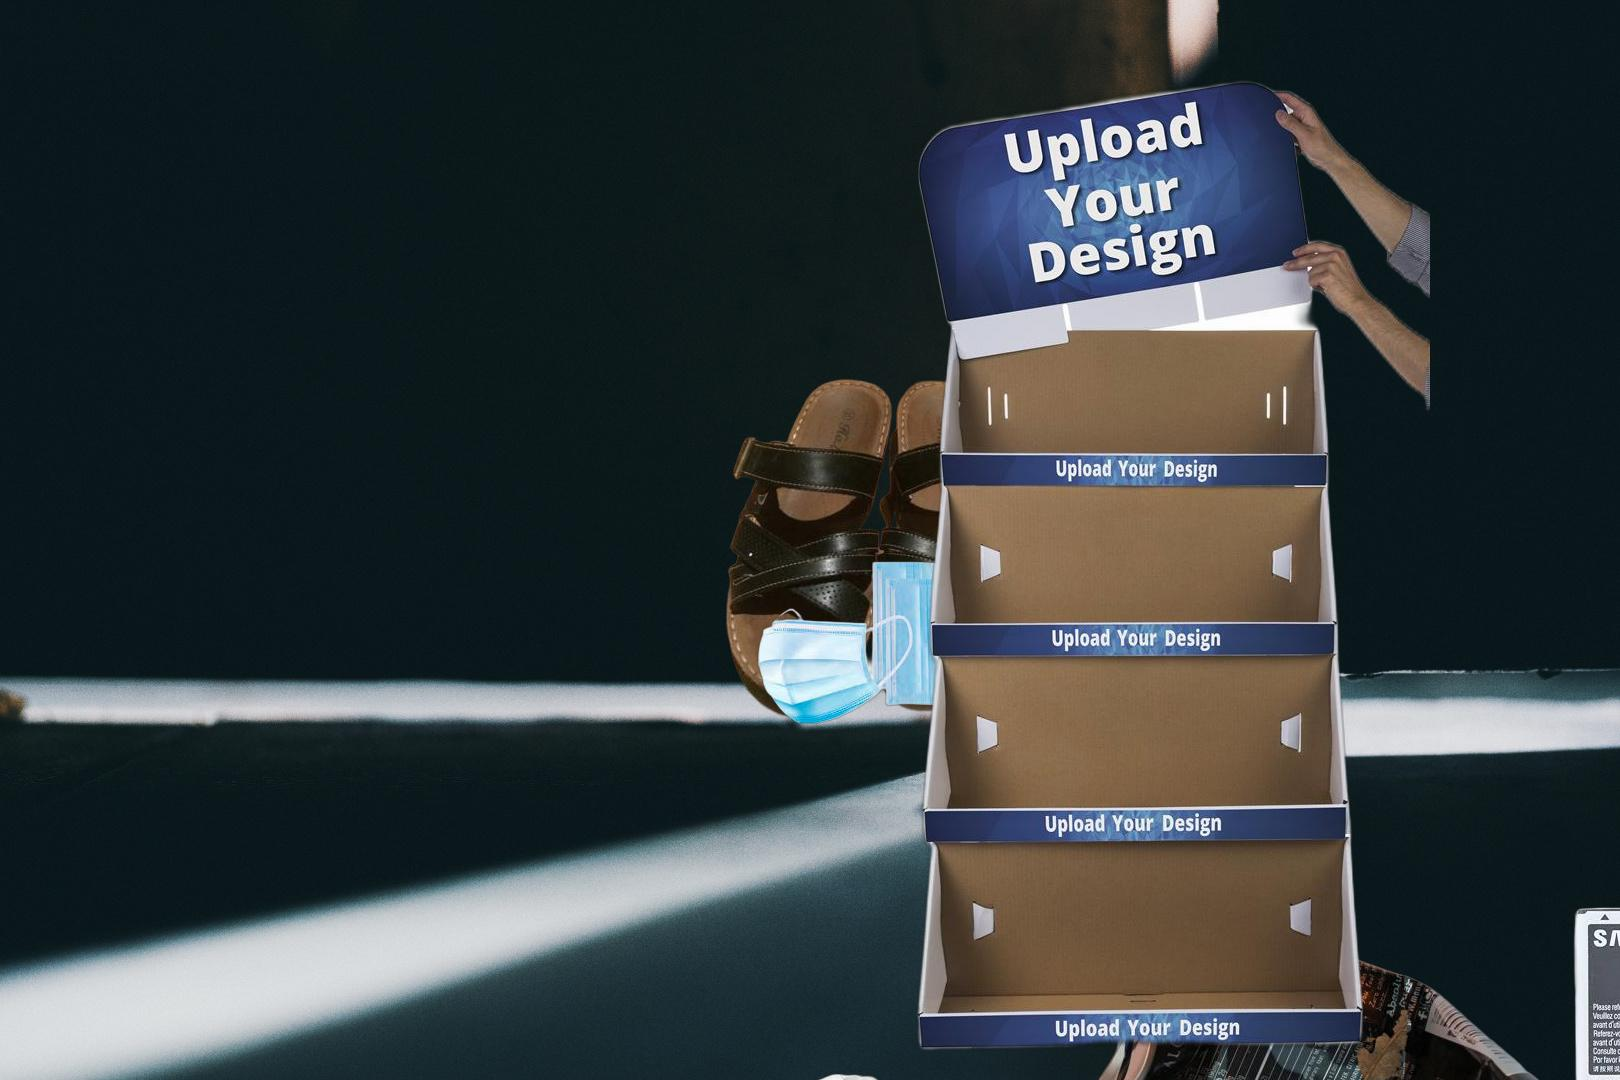battery: (1568, 904, 1620, 1080)
metal-cans: (1082, 926, 1557, 1080)
shoes: (722, 374, 1041, 723)
trash: (755, 559, 959, 727), (726, 1072, 906, 1080)
trashbox-cardboard: (912, 72, 1430, 1060)
